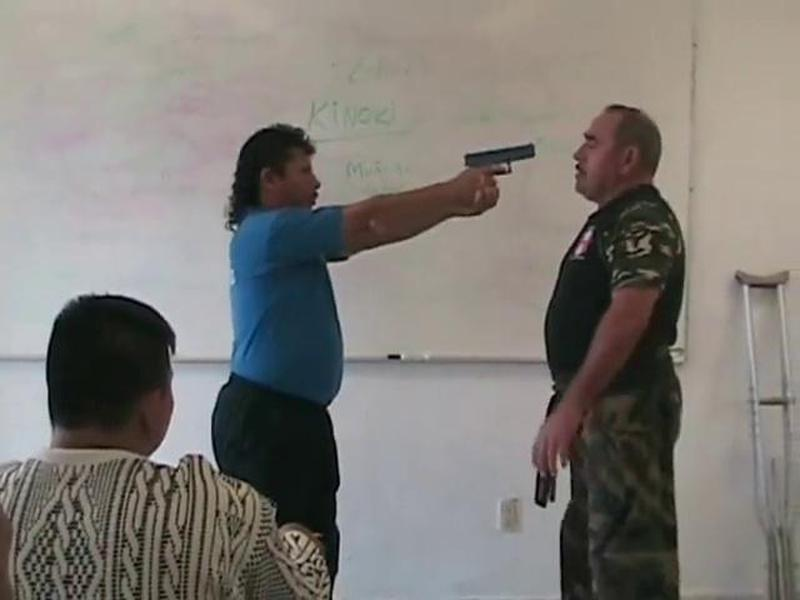Pistola: (465, 140, 548, 199)
